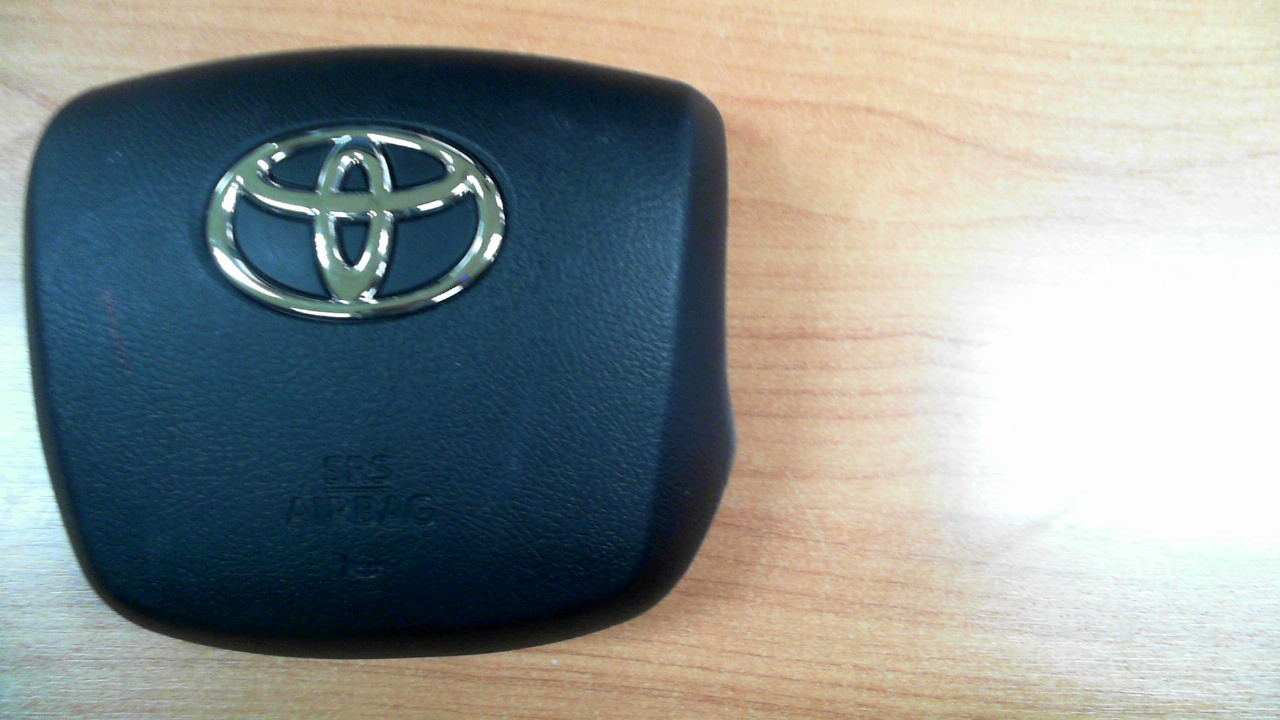Airbag: (22, 46, 737, 663)
Toyota: (206, 124, 507, 319)
